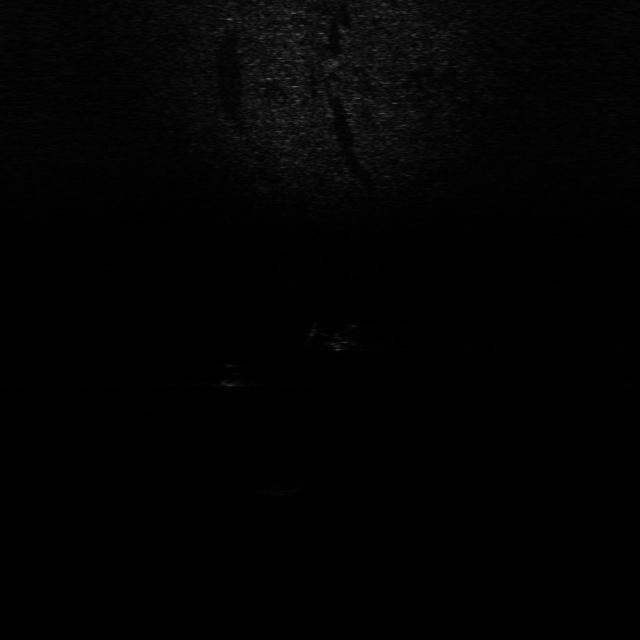ball: (213, 355, 254, 391)
circle cage: (262, 472, 308, 497)
human body: (302, 316, 371, 352)
